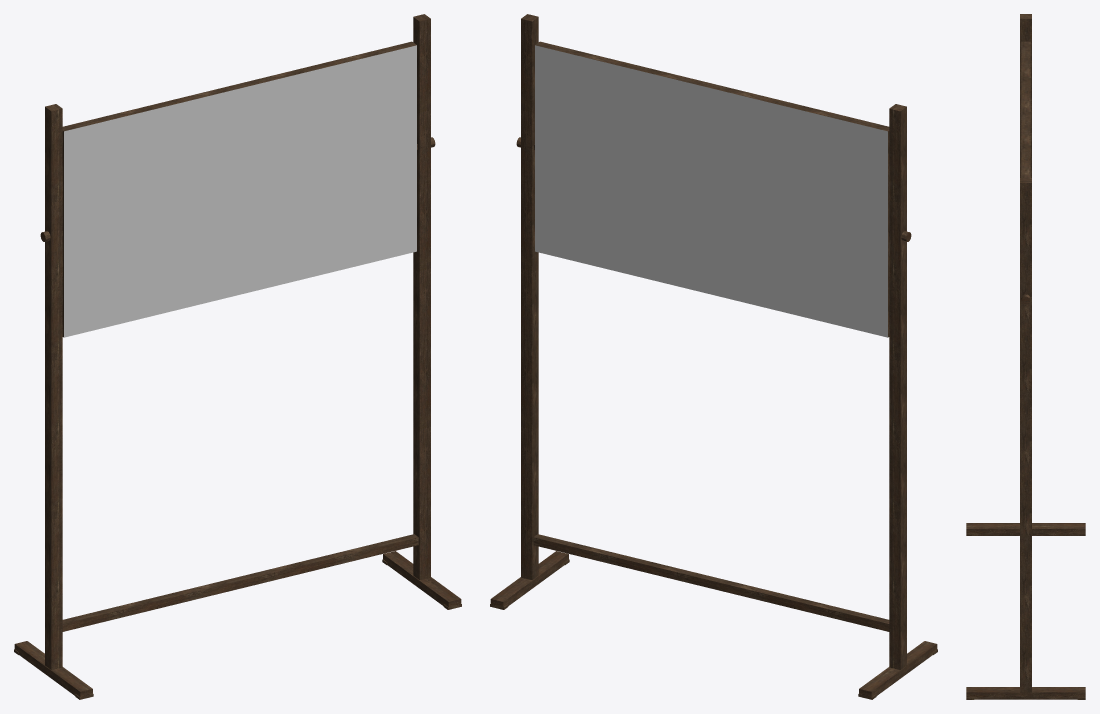
The model's file is CaseBoard.fbx.
The picture shows the model from 3 angles, left to right: view 1: azimuth 30°, elevation 25°; view 2: azimuth 150°, elevation 25°; view 3: azimuth 270°, elevation 25°; orthographic projection. The views are drawn at different scales.
Parts seen in each view (by area): view 1: CaseBoard; view 2: CaseBoard; view 3: CaseBoard.
Boxes of the visible parts, <box> form: CaseBoard: <box>14,14,461,699</box>; CaseBoard: <box>490,14,937,699</box>; CaseBoard: <box>966,14,1085,699</box>.
Bounding box in the file's own units: 3.09 × 4.29 × 0.9.
